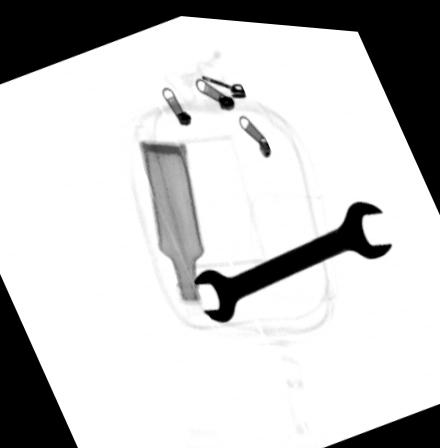Wrench: (190, 192, 394, 319)
